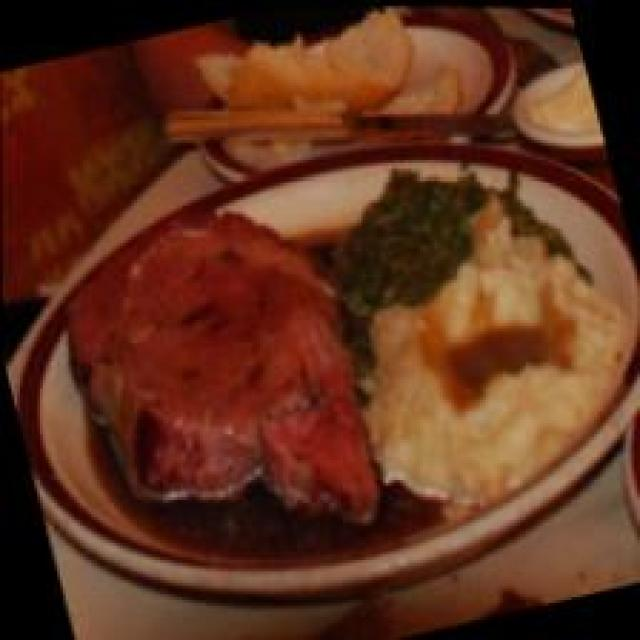rib: (33, 183, 407, 594)
